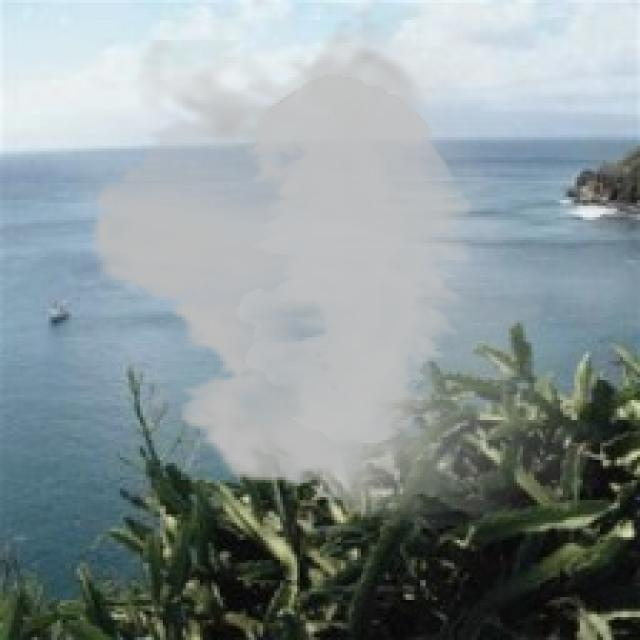smoke: (69, 6, 632, 528)
